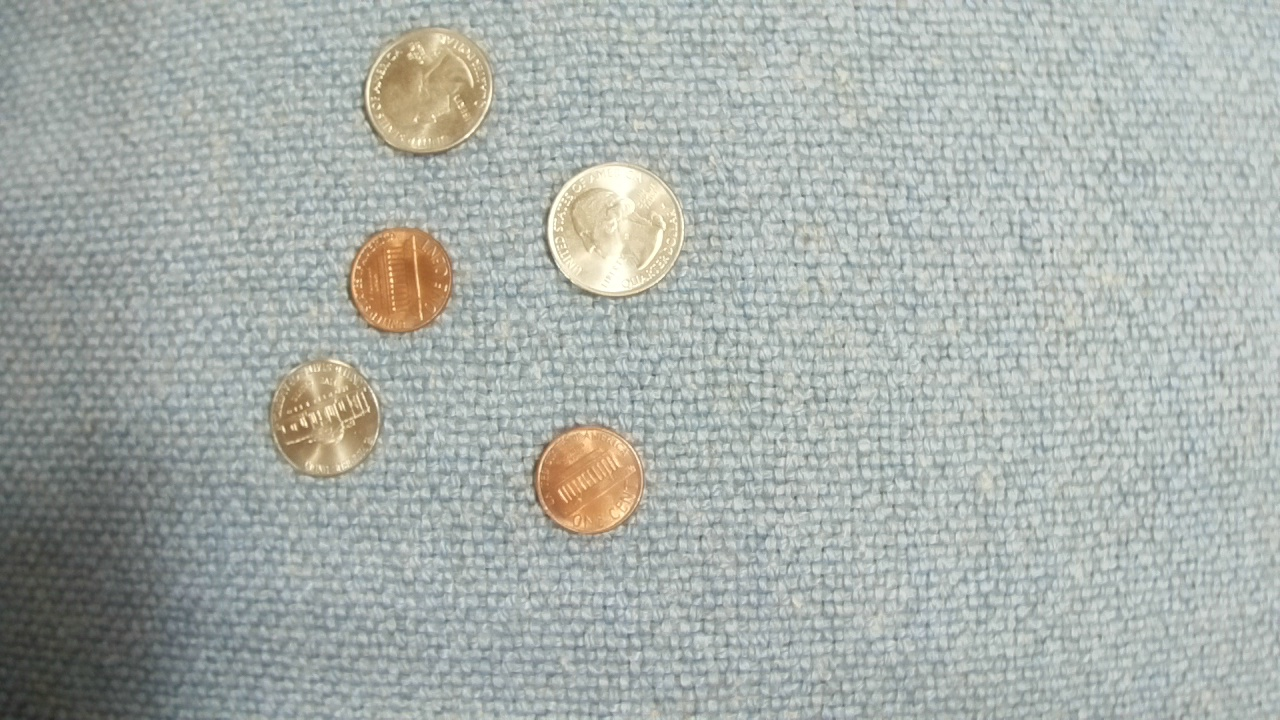nickel: (269, 359, 383, 479)
penny: (535, 425, 646, 534), (347, 227, 456, 334)
quarter: (545, 162, 687, 298), (361, 27, 497, 157)
